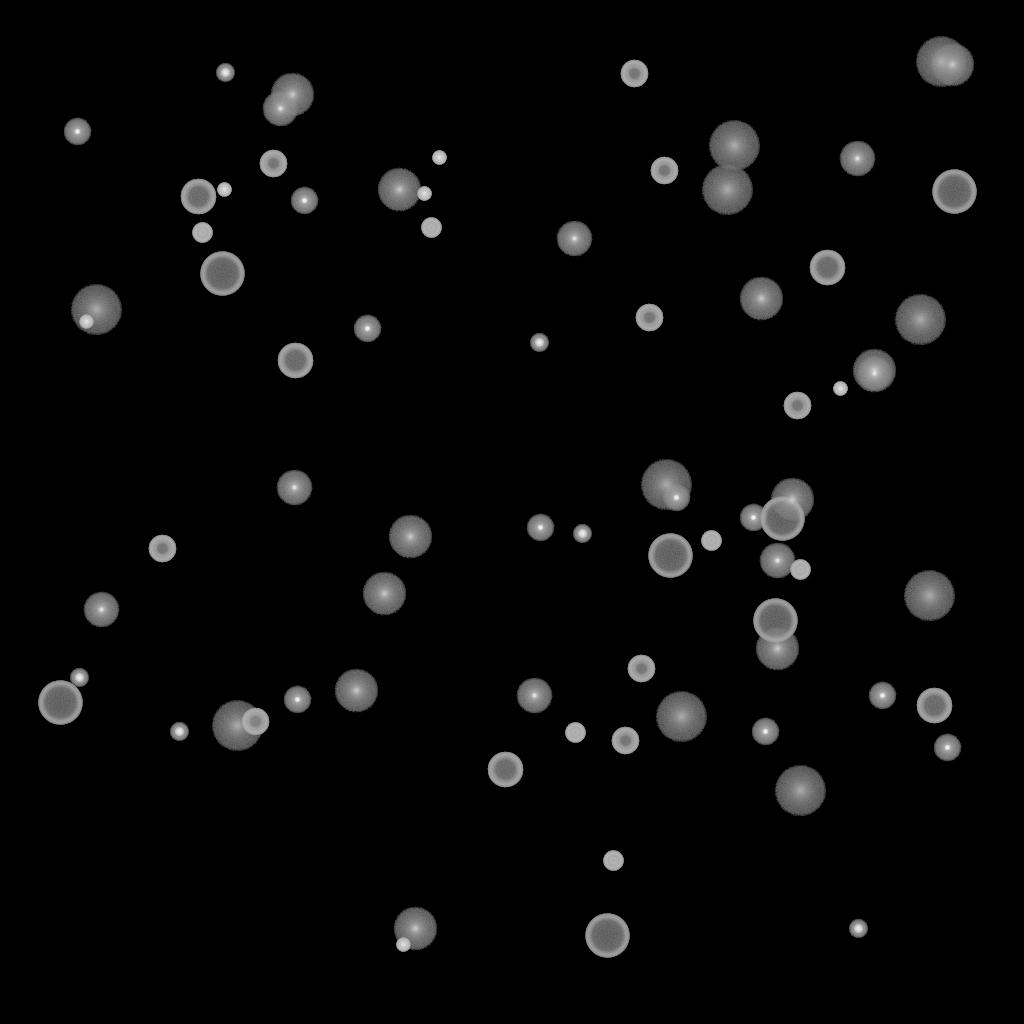depth:-10: (662, 484, 690, 512), (63, 118, 91, 146), (526, 514, 554, 542), (751, 718, 779, 746), (933, 734, 961, 762), (283, 686, 311, 714), (868, 682, 896, 710), (290, 187, 318, 215), (739, 504, 767, 532), (353, 315, 381, 343)
depth:-20: (70, 669, 88, 687), (170, 723, 188, 741), (573, 525, 591, 543), (530, 334, 548, 352), (849, 920, 867, 938), (216, 64, 234, 82)
depth:-30: (79, 315, 93, 329), (833, 382, 847, 396), (217, 183, 231, 197), (432, 151, 446, 165), (417, 187, 431, 201), (396, 938, 410, 952)
depth:-40: (192, 223, 212, 243), (421, 218, 441, 238), (790, 560, 810, 580), (701, 531, 721, 551), (603, 851, 623, 871), (565, 723, 585, 743)
depth:-50: (620, 60, 648, 88), (241, 708, 269, 736), (627, 655, 655, 683), (650, 157, 678, 185), (148, 535, 176, 563), (635, 304, 663, 332), (611, 727, 639, 755), (259, 150, 287, 178), (783, 392, 811, 420)
depth:-60: (916, 688, 952, 724), (180, 179, 216, 215), (277, 343, 313, 379), (487, 752, 523, 788), (809, 250, 845, 286)
depth:-70: (932, 170, 976, 214), (200, 252, 244, 296), (753, 599, 797, 643), (648, 534, 692, 578), (38, 681, 82, 725), (585, 914, 629, 958), (760, 497, 804, 541)
depth:0: (856, 356, 892, 392), (556, 221, 592, 257), (516, 678, 552, 714), (262, 91, 298, 127), (839, 141, 875, 177), (276, 470, 312, 506), (759, 543, 795, 579), (83, 592, 119, 628)
depth:10: (770, 478, 814, 522), (852, 349, 896, 393), (755, 627, 799, 671), (930, 43, 974, 87), (334, 669, 378, 713), (393, 907, 437, 951), (388, 515, 432, 559), (377, 168, 421, 212), (362, 572, 406, 616), (739, 277, 783, 321), (270, 73, 314, 117)
depth:20: (894, 295, 946, 345), (70, 285, 122, 335), (640, 460, 692, 510), (774, 766, 826, 816), (655, 692, 707, 742), (211, 701, 263, 751), (915, 37, 967, 87), (701, 165, 753, 215), (903, 571, 955, 621), (708, 121, 760, 171)
